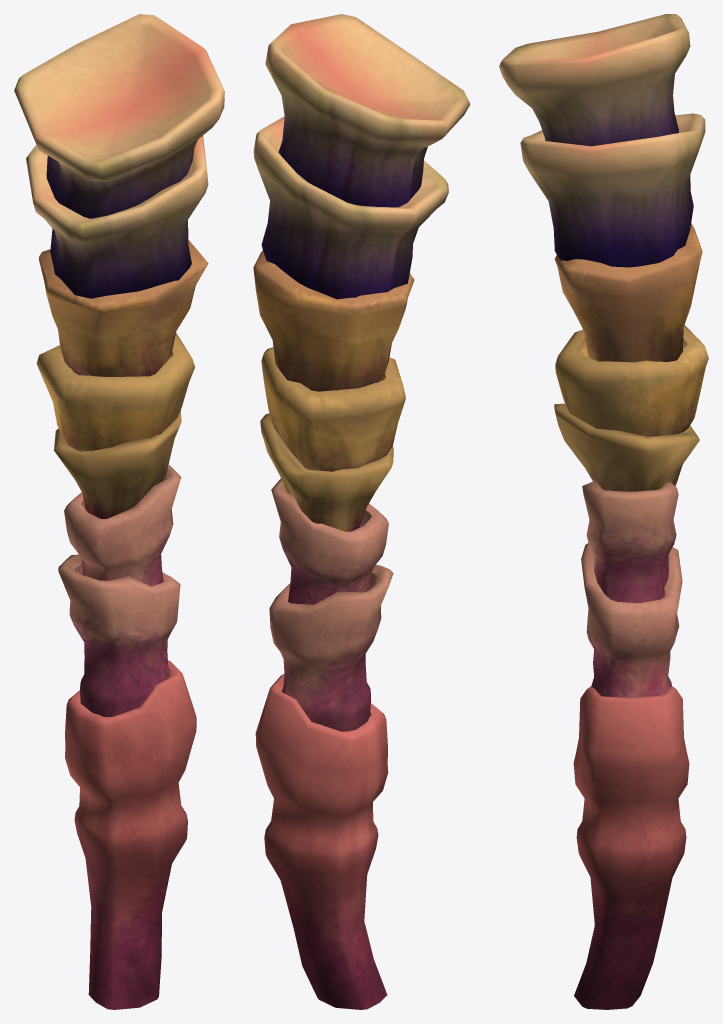
Rendered from Cartoon Seaweed_13-2-2.fbx.
The picture shows the model from 3 angles, left to right: view 1: azimuth 30°, elevation 25°; view 2: azimuth 150°, elevation 25°; view 3: azimuth 270°, elevation 25°; orthographic projection. The views are drawn at different scales.
Parts seen in each view (by area): view 1: Cartoon Seaweed_13.2.2; view 2: Cartoon Seaweed_13.2.2; view 3: Cartoon Seaweed_13.2.2.
Boxes of the visible parts, x1=… form: Cartoon Seaweed_13.2.2: x1=14, y1=14, x2=224, y2=1009; Cartoon Seaweed_13.2.2: x1=253, y1=14, x2=470, y2=1009; Cartoon Seaweed_13.2.2: x1=499, y1=14, x2=708, y2=1009.
Bounding box in the file's own units: 30.07 × 160 × 30.78.
Materials: 1 (1 with a texture image).
